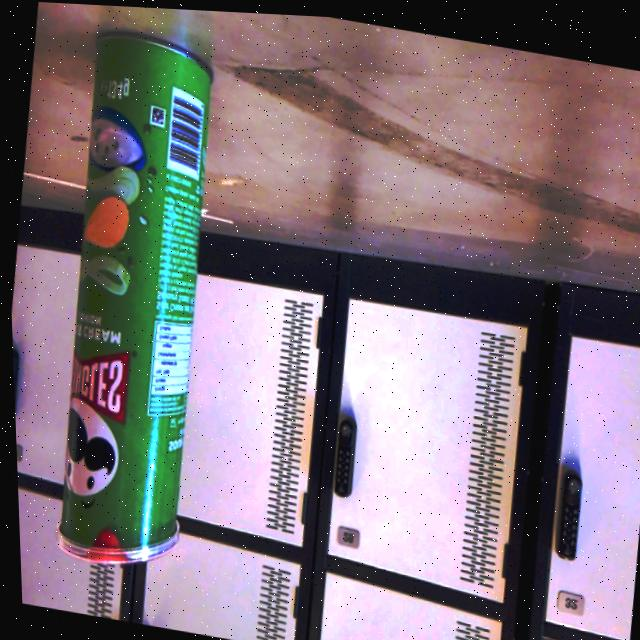greenpringles: (23, 4, 247, 583)
